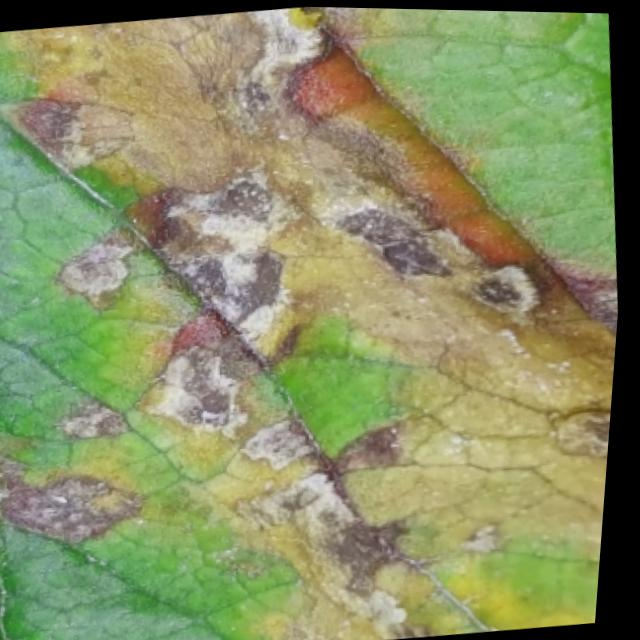Angular Leafspot: (0, 5, 622, 640)
